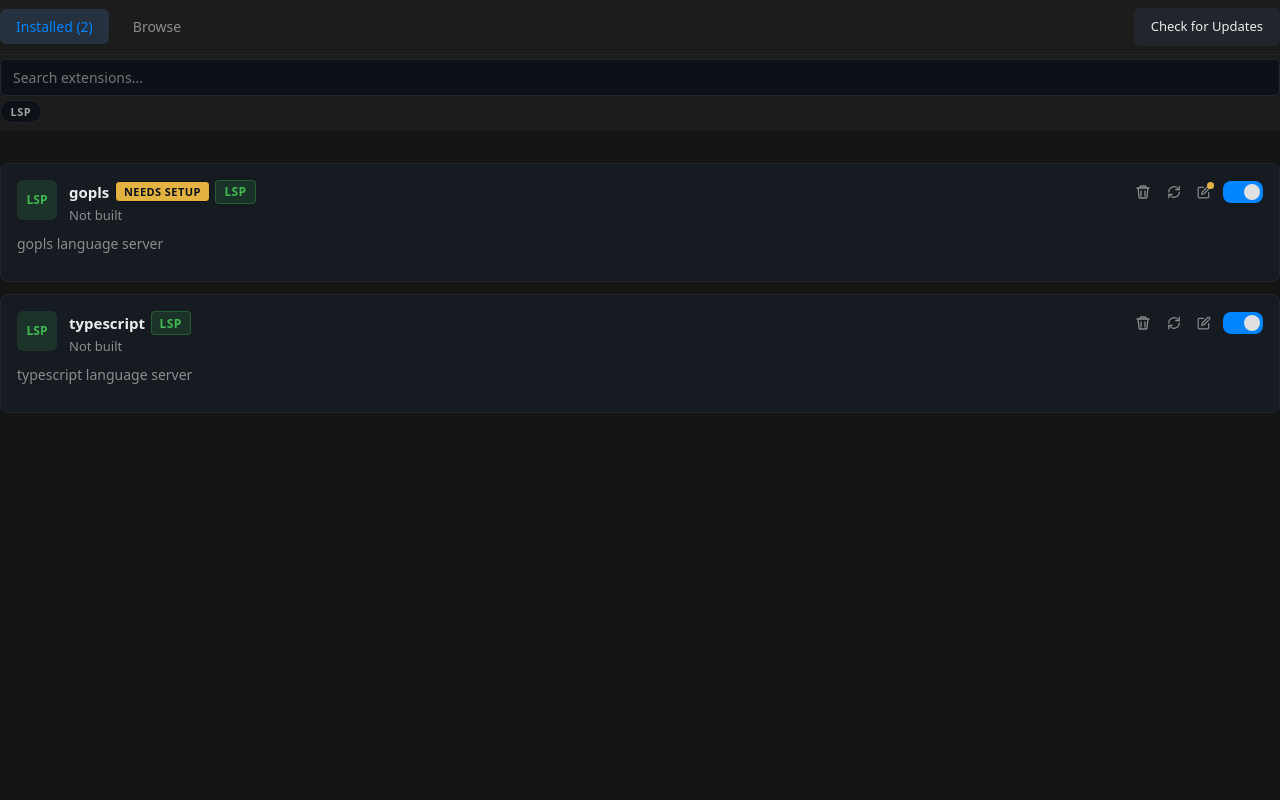
Test: Settings → Extensions: the dialog that names the directory › grants the path in the field when the dialog saves, and stops warning afterwards
The image size is (1280, 800).
Expected: the text "gopls" is shown, [69, 180, 109, 203]
Click the button "Needs setup" at coordinates (162, 192), box [115, 181, 210, 202]
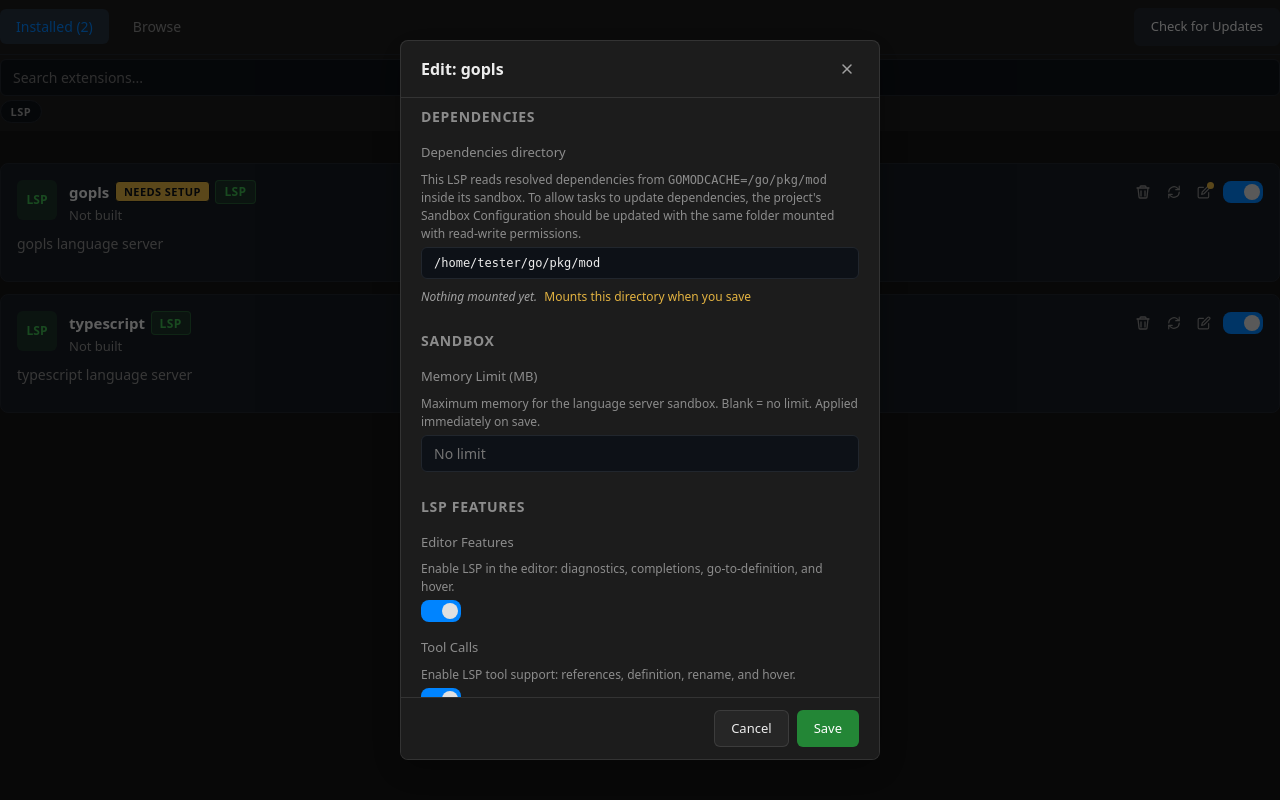
Now the field with id "edit-dep-path" is shown
Replace the text in the field with id "edit-dep-path" with "/data/shared/gomodcache" at coordinates (640, 262), box [421, 246, 859, 278]
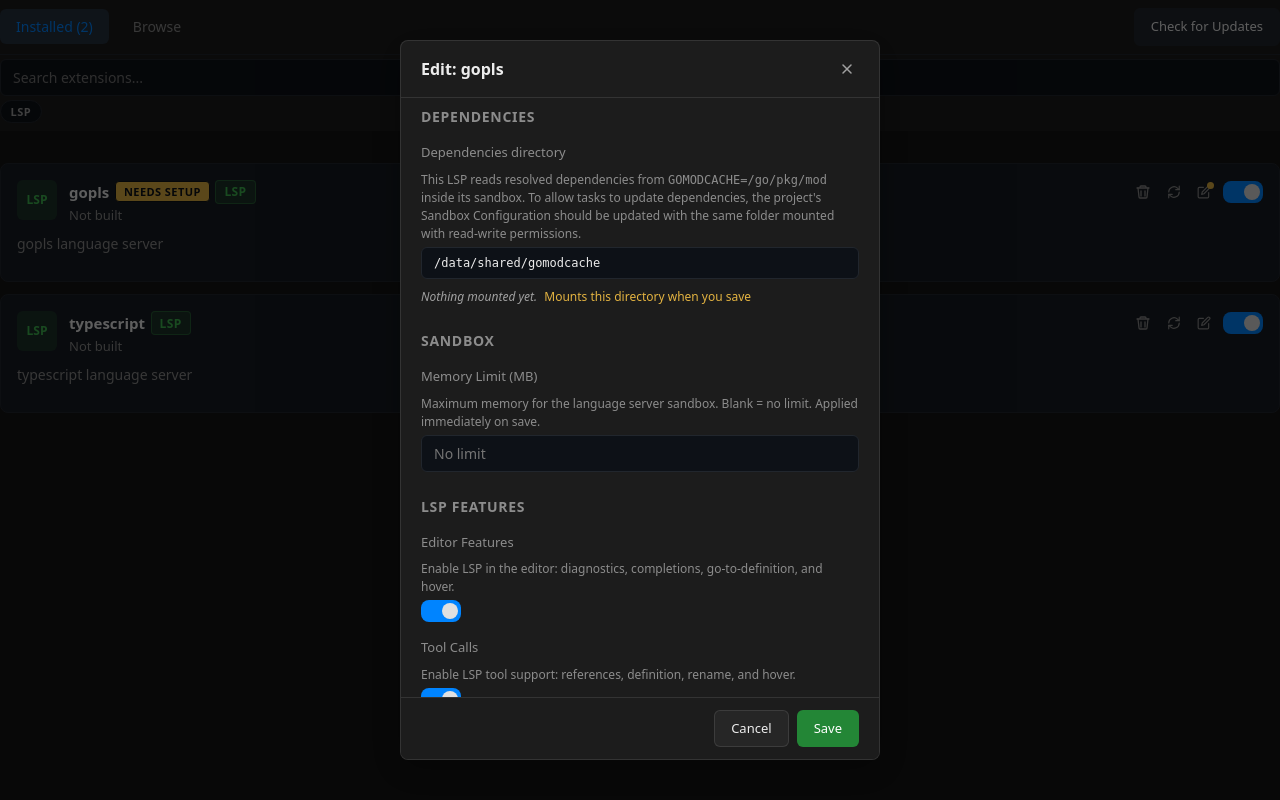
Click the button "Save" at coordinates (828, 728), box [797, 710, 859, 747]
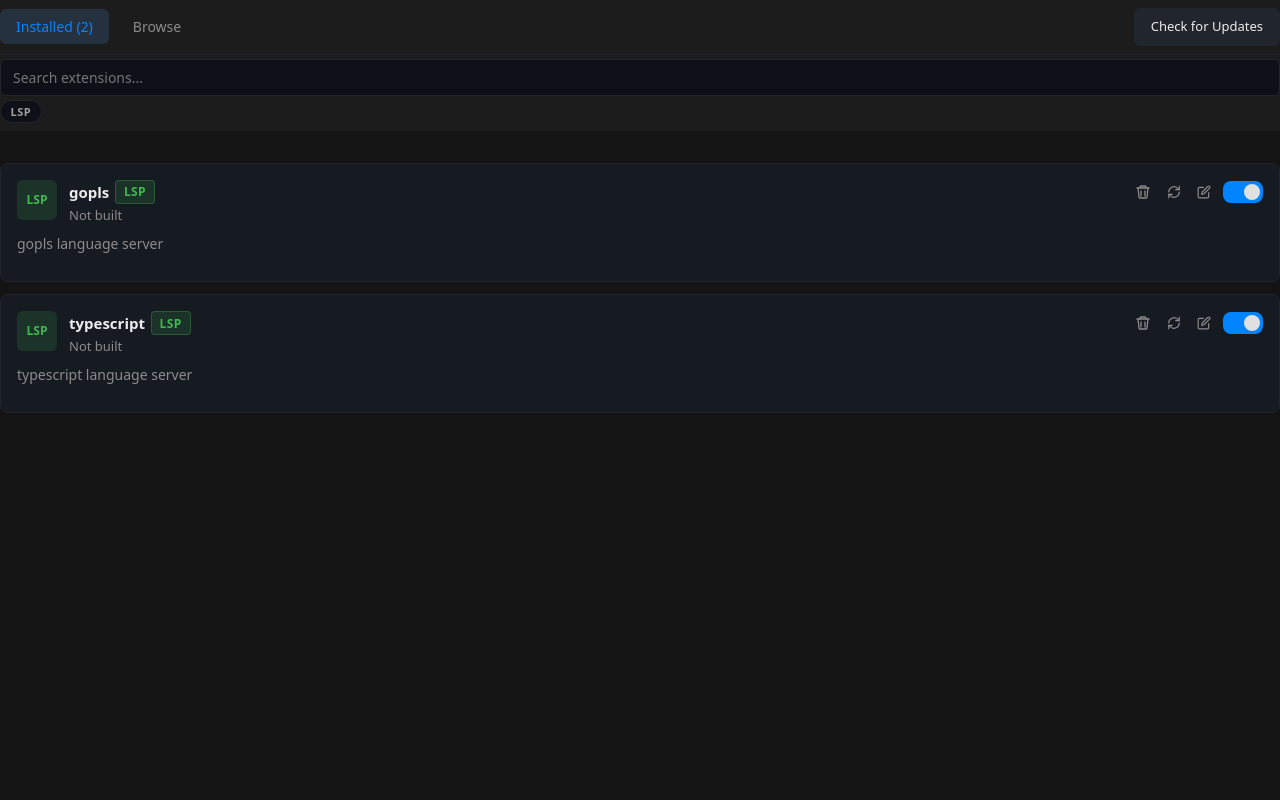
Now the label with id "edit-dep-path" is gone
